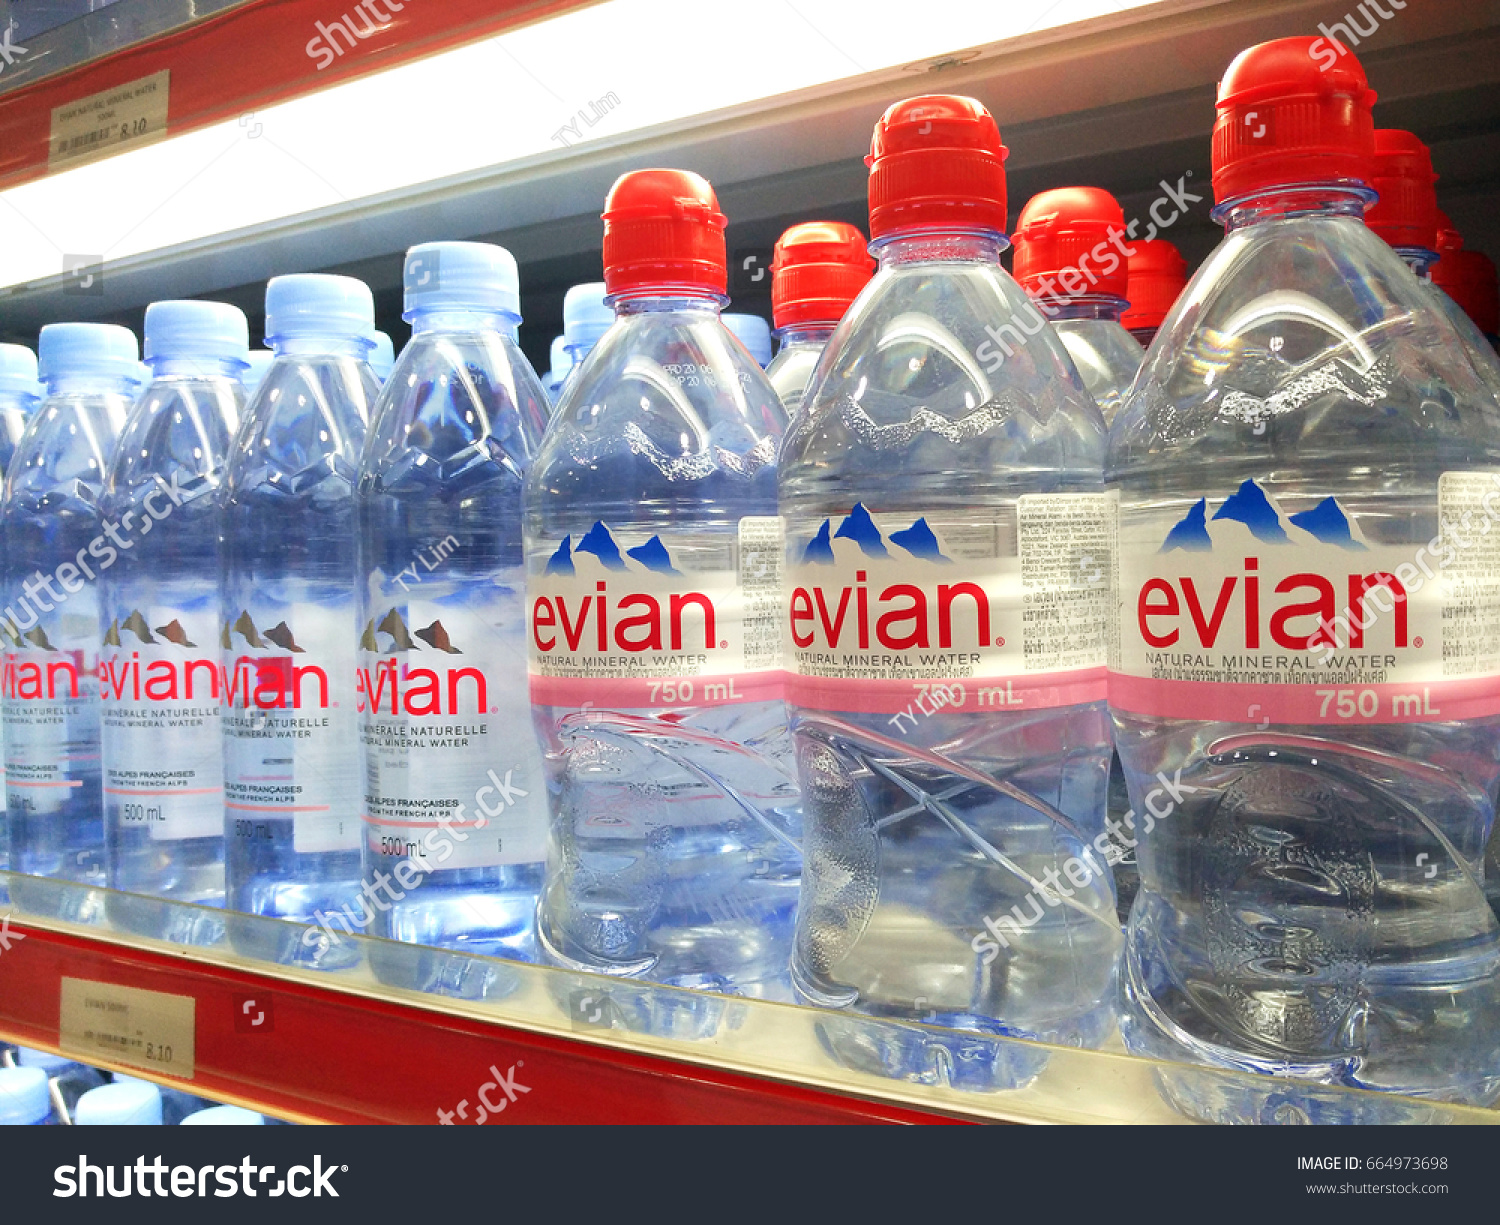evian: (1125, 34, 1500, 1122), (771, 101, 1123, 1098), (523, 161, 781, 1046), (351, 226, 549, 994)
